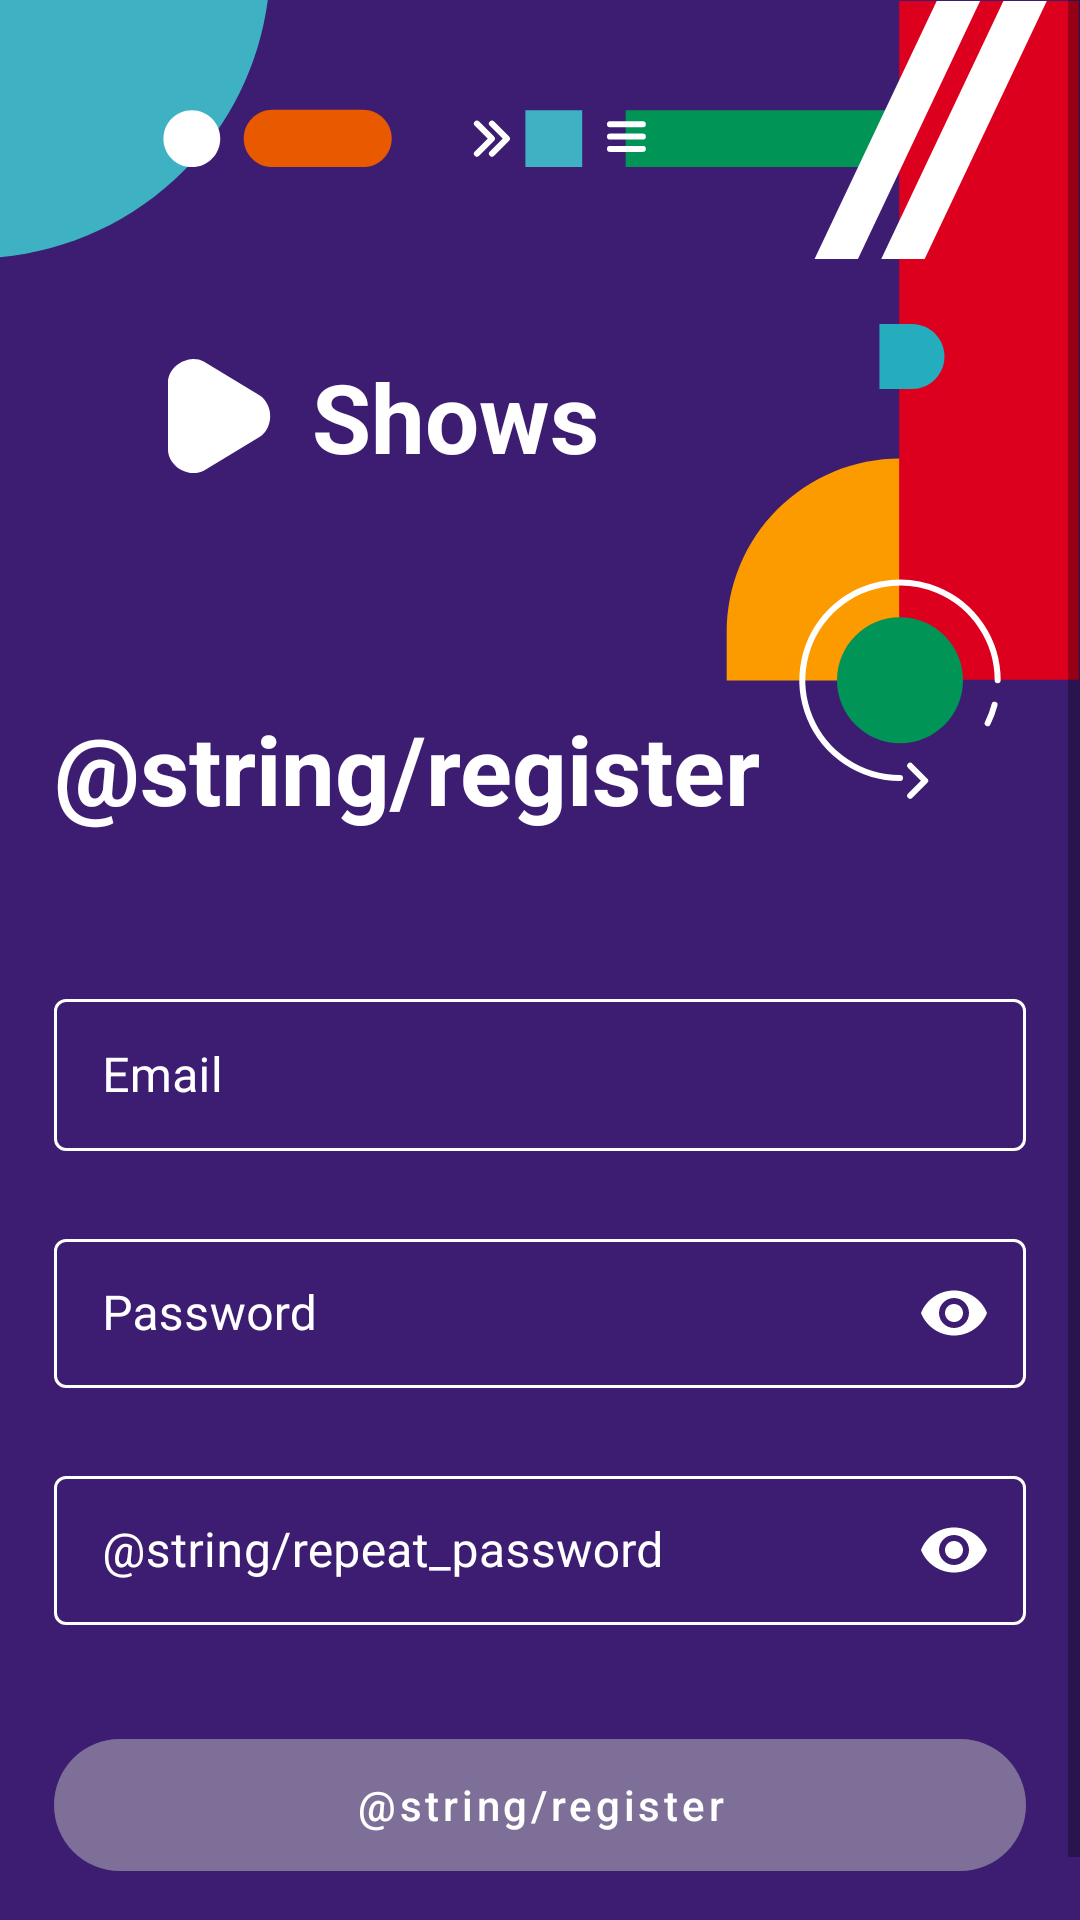

Where to tap for icons on this 1080×1920 app screen, as [x,y]:
welcome triangle: [219,416]
